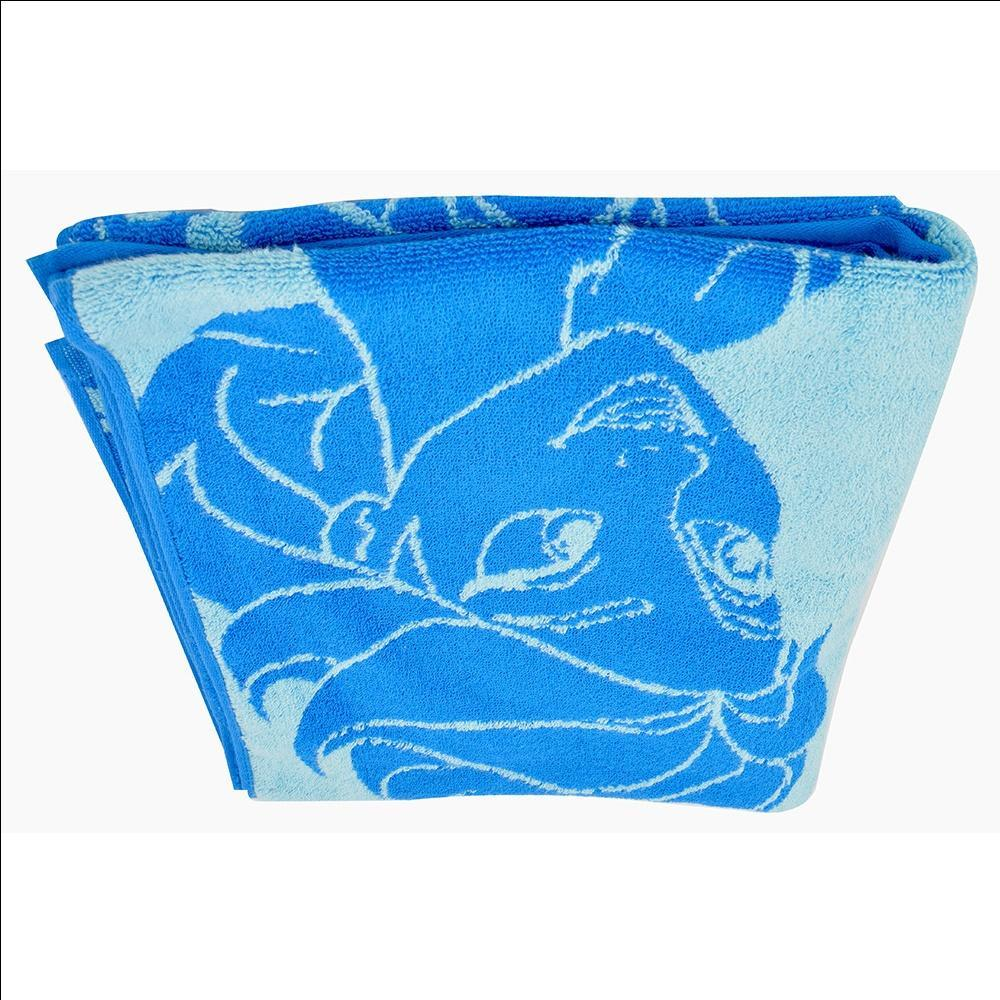towel: (42, 133, 1000, 885)
